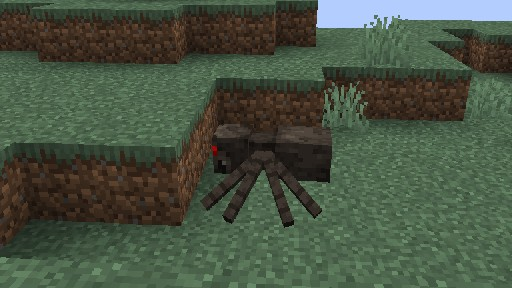spider: (199, 122, 332, 228)
